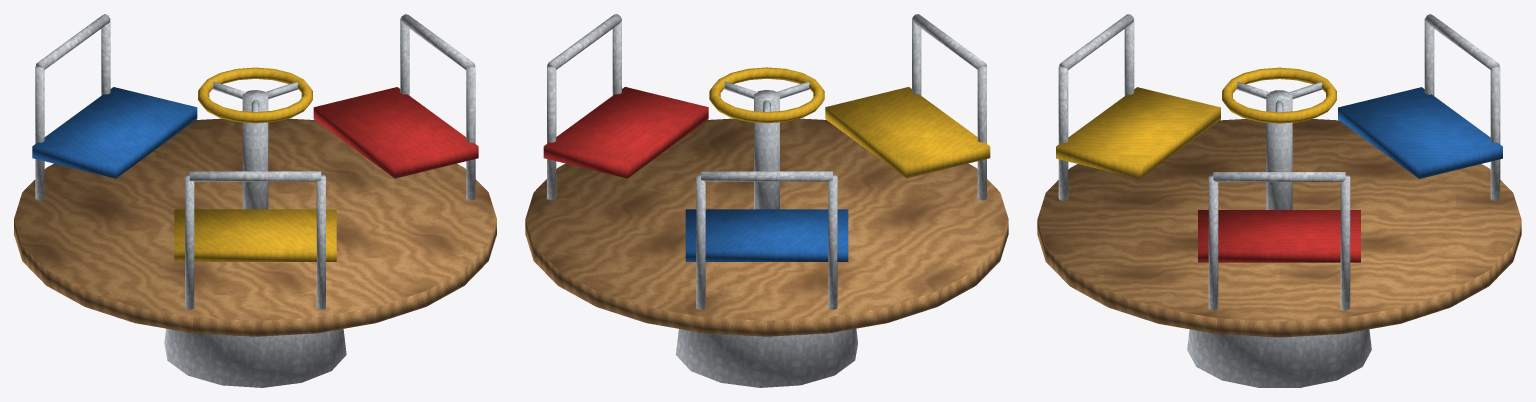
The model's file is playground_carousel.glb.
3 views of the same model, side by side, from view 1: azimuth 30°, elevation 25°; view 2: azimuth 150°, elevation 25°; view 3: azimuth 270°, elevation 25° (orthographic).
Visible parts, largest first — view 1: Carousel_Rotor, Carousel_Base; view 2: Carousel_Rotor, Carousel_Base; view 3: Carousel_Rotor, Carousel_Base.
Part boxes in pixels (bbox=[...]): Carousel_Rotor: bbox=[14, 14, 496, 336]; Carousel_Base: bbox=[164, 328, 346, 387]; Carousel_Rotor: bbox=[525, 14, 1008, 336]; Carousel_Base: bbox=[676, 328, 857, 387]; Carousel_Rotor: bbox=[1037, 14, 1521, 337]; Carousel_Base: bbox=[1187, 329, 1371, 387].
Bounding box in the file's own units: 2.2 × 1.34 × 2.2.
Materials: 5 (5 with a texture image).
